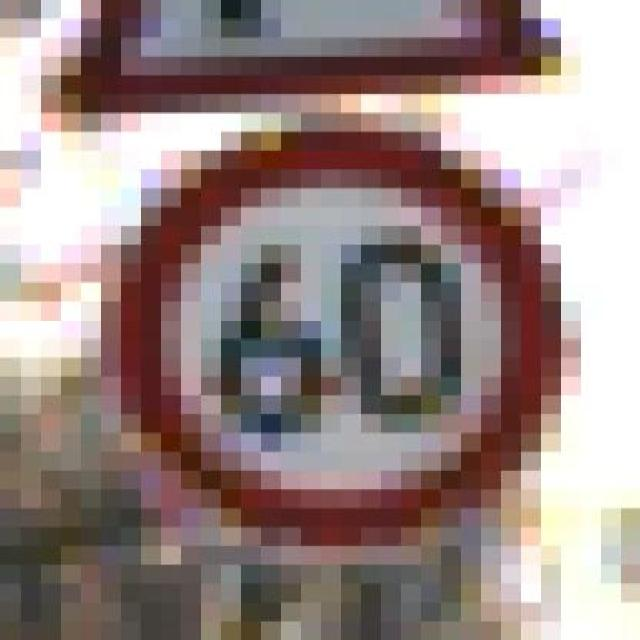forb_speed_over_60: (120, 130, 557, 535)
